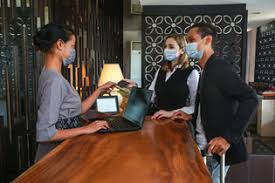mask: (185, 43, 204, 59), (63, 48, 75, 65), (163, 48, 177, 61)
